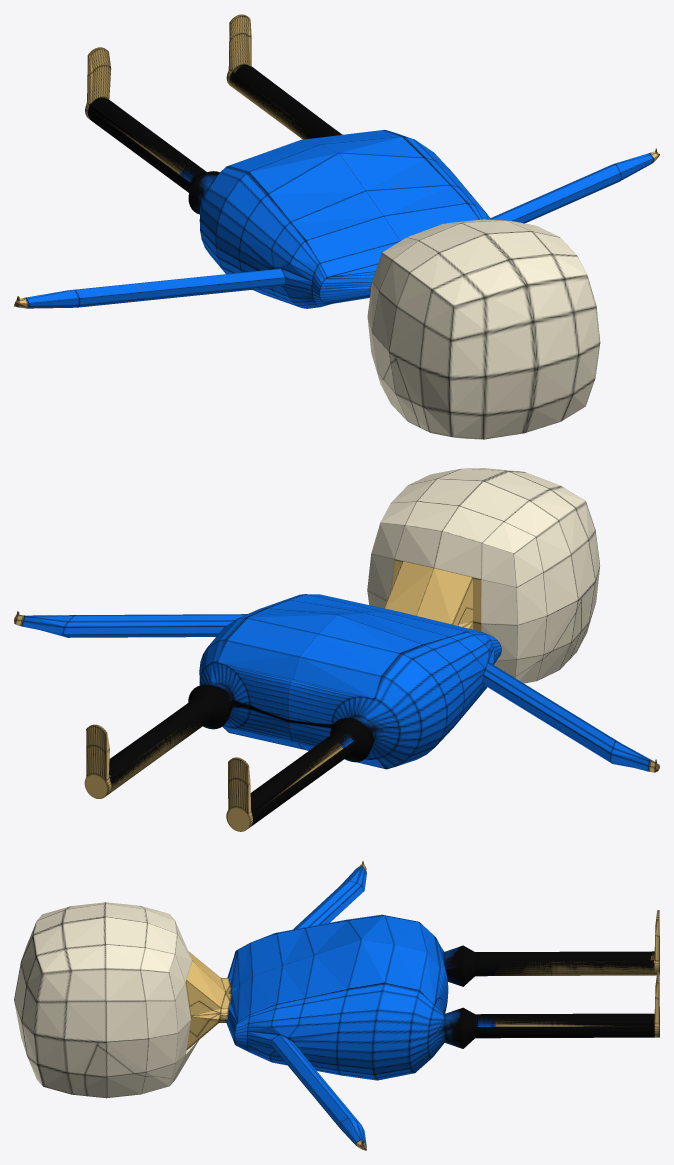
File: playerWithTexture.obj
3 renders of one model, top to bottom at view 1: azimuth 30°, elevation 25°; view 2: azimuth 150°, elevation 25°; view 3: azimuth 270°, elevation 25°, orthographic. The views are drawn at different scales.
Parts seen in each view (by area): view 1: Cylinder_Cylinder.001; view 2: Cylinder_Cylinder.001; view 3: Cylinder_Cylinder.001.
Boxes of the visible parts, box(x1,y1,x2,y2) form: Cylinder_Cylinder.001: box(14, 14, 659, 439); Cylinder_Cylinder.001: box(14, 468, 659, 831); Cylinder_Cylinder.001: box(14, 861, 659, 1150).
Bounding box in the file's own units: 4.98 × 1.41 × 4.93.
